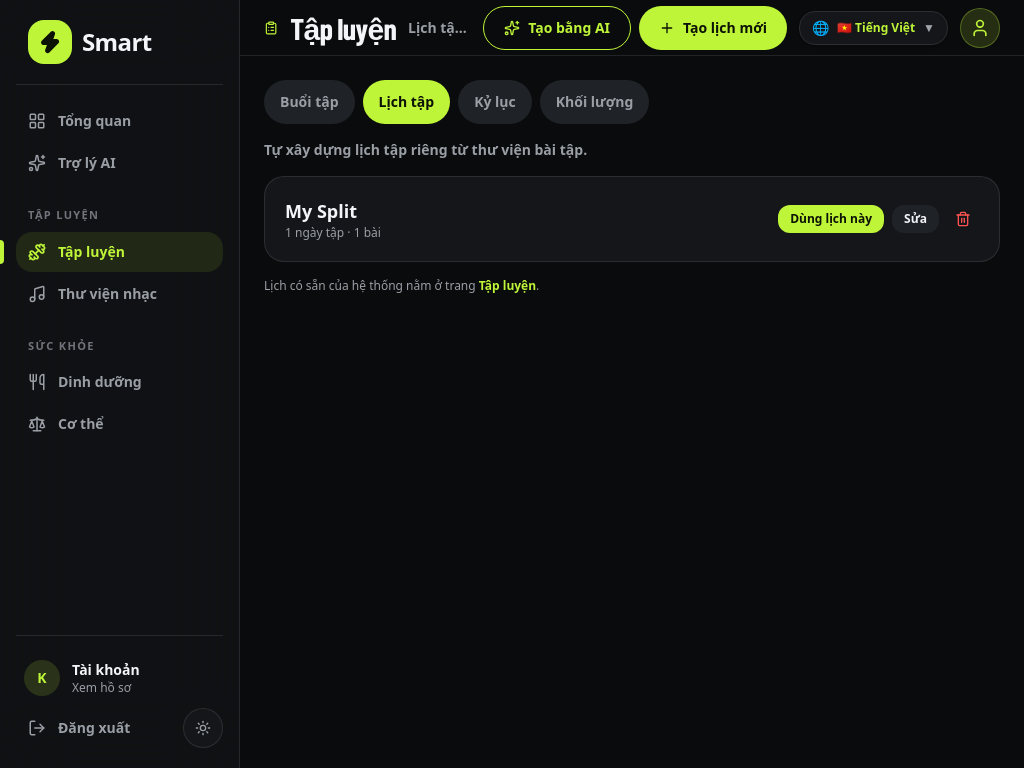
Test case: Routines: using, deleting › delete asks first, then removes and reloads the list
Click the button named "Xóa lịch tập My Split" at (963, 219), box [947,203,979,235]
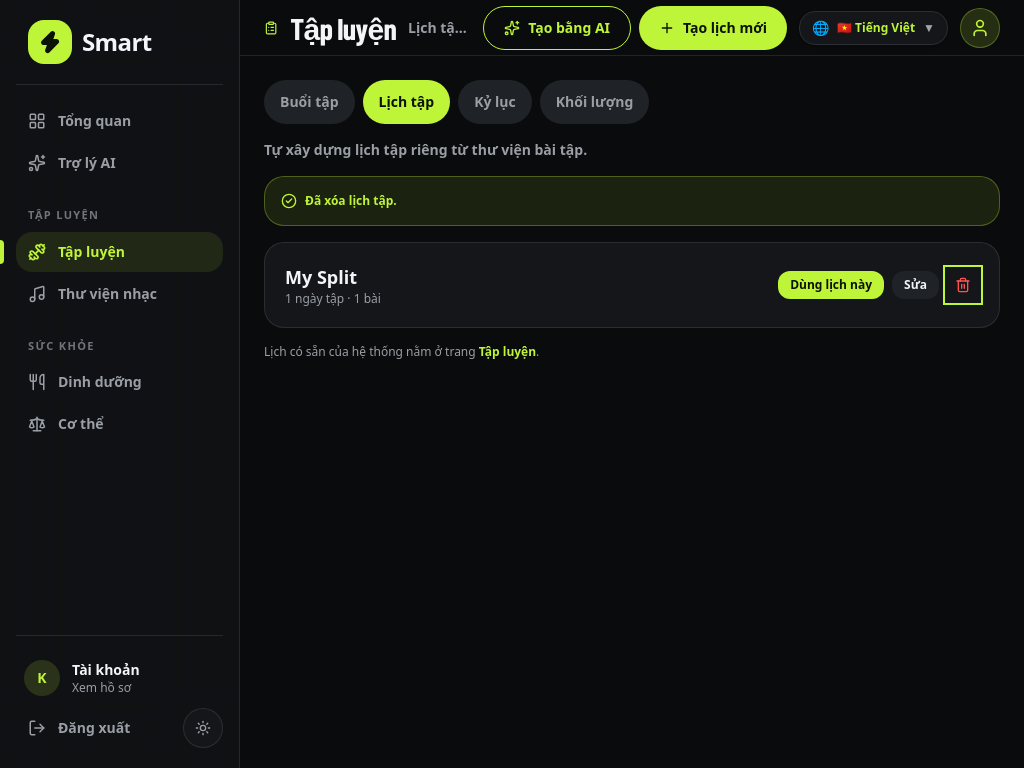
Result: the message shows "Đã xóa" at [305,192,397,209]
